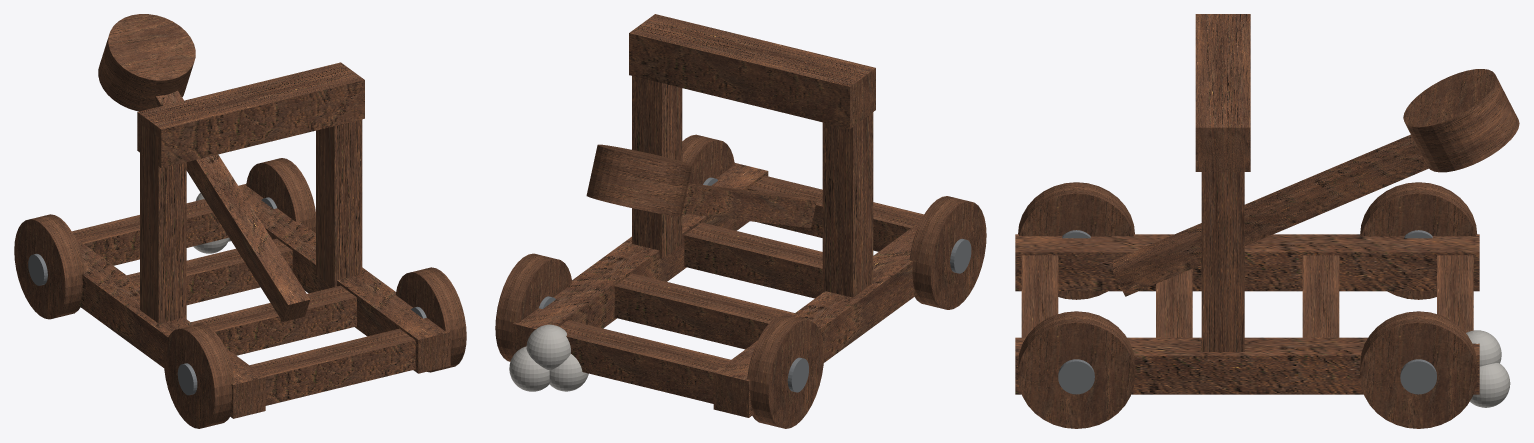
File: catapult.glb
The picture shows the model from 3 angles, left to right: view 1: azimuth 30°, elevation 25°; view 2: azimuth 150°, elevation 25°; view 3: azimuth 270°, elevation 25°; orthographic projection. The views are drawn at different scales.
Visible parts, largest first — view 1: Cube.008, Cube.006, Cube.001, Cube.007, Cylinder, Cube, Cube.009, Cube.002, Cube.003, Cylinder.003, Cylinder.001, Cube.005 (+5 smaller); view 2: Cube.008, Cube.006, Cube, Cube.001, Cube.004, Cube.005, Cube.003, Cylinder.001, Cylinder.003, Cube.007, Cylinder, Cube.009 (+8 smaller); view 3: Cube, Cube.001, Cube.009, Cylinder.005, Cylinder.007, Cube.007, Cube.008, Cylinder, Cylinder.001, Cylinder.003, Cube.004, Cube.002 (+6 smaller).
Part boxes in pixels (x1,y1,x2,y2): Cube.008: (137, 62, 364, 168); Cube.006: (140, 124, 186, 323); Cube.001: (238, 184, 450, 373); Cube.007: (316, 119, 362, 287); Cylinder: (98, 14, 195, 111); Cube: (75, 238, 265, 418); Cube.009: (151, 90, 310, 321); Cube.002: (250, 328, 415, 405); Cube.003: (191, 285, 356, 355); Cylinder.003: (14, 214, 85, 319); Cylinder.001: (164, 324, 234, 428); Cube.005: (72, 199, 228, 265); Cube.008: (629, 14, 875, 128); Cube.006: (822, 112, 873, 297); Cube: (713, 222, 919, 417); Cube.001: (512, 163, 768, 356); Cube.004: (614, 273, 794, 349); Cube.005: (559, 320, 730, 403); Cube.003: (684, 222, 822, 298); Cylinder.001: (909, 196, 986, 309); Cylinder.003: (747, 315, 824, 428); Cube.007: (632, 76, 682, 258); Cylinder: (586, 144, 692, 216); Cube.009: (682, 183, 816, 227); Cube: (1015, 234, 1479, 291); Cube.001: (1015, 337, 1479, 394); Cube.009: (1113, 134, 1428, 296); Cylinder.005: (1018, 311, 1135, 428); Cylinder.007: (1360, 311, 1477, 428); Cube.007: (1201, 138, 1244, 351); Cube.008: (1195, 14, 1250, 171); Cylinder: (1403, 69, 1519, 172); Cylinder.001: (1018, 182, 1134, 299); Cylinder.003: (1360, 182, 1476, 299); Cube.004: (1302, 255, 1339, 337); Cube.002: (1021, 255, 1058, 337).
Size of the model in its own units: 2.8 by 2.6 by 4.13.
3 materials, 1 textured.
